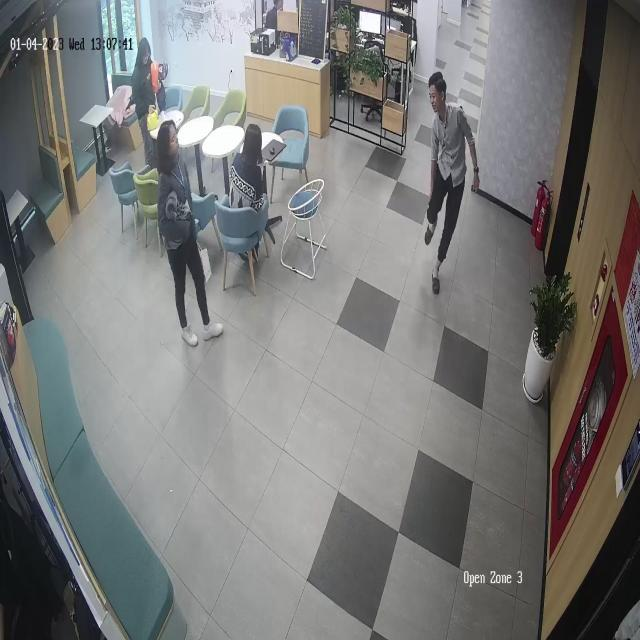person: (155, 121, 224, 347), (425, 70, 481, 295), (229, 122, 276, 259), (131, 36, 170, 132)
